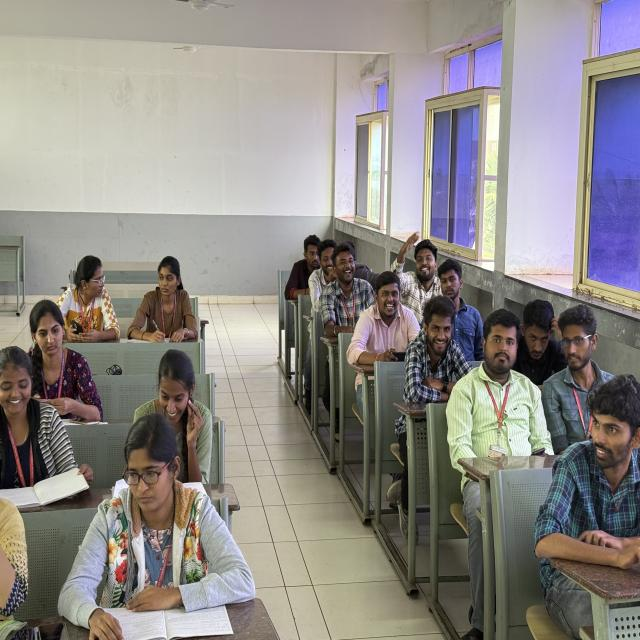Reading: (48, 409, 271, 640), (0, 336, 93, 526)
Using Phone: (346, 268, 424, 372), (46, 251, 126, 348)
Writing: (126, 250, 207, 348)
